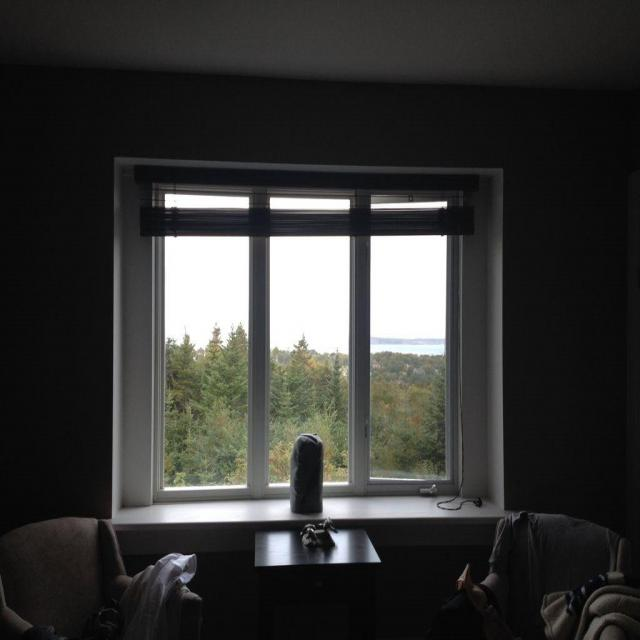table: (256, 528, 380, 638)
